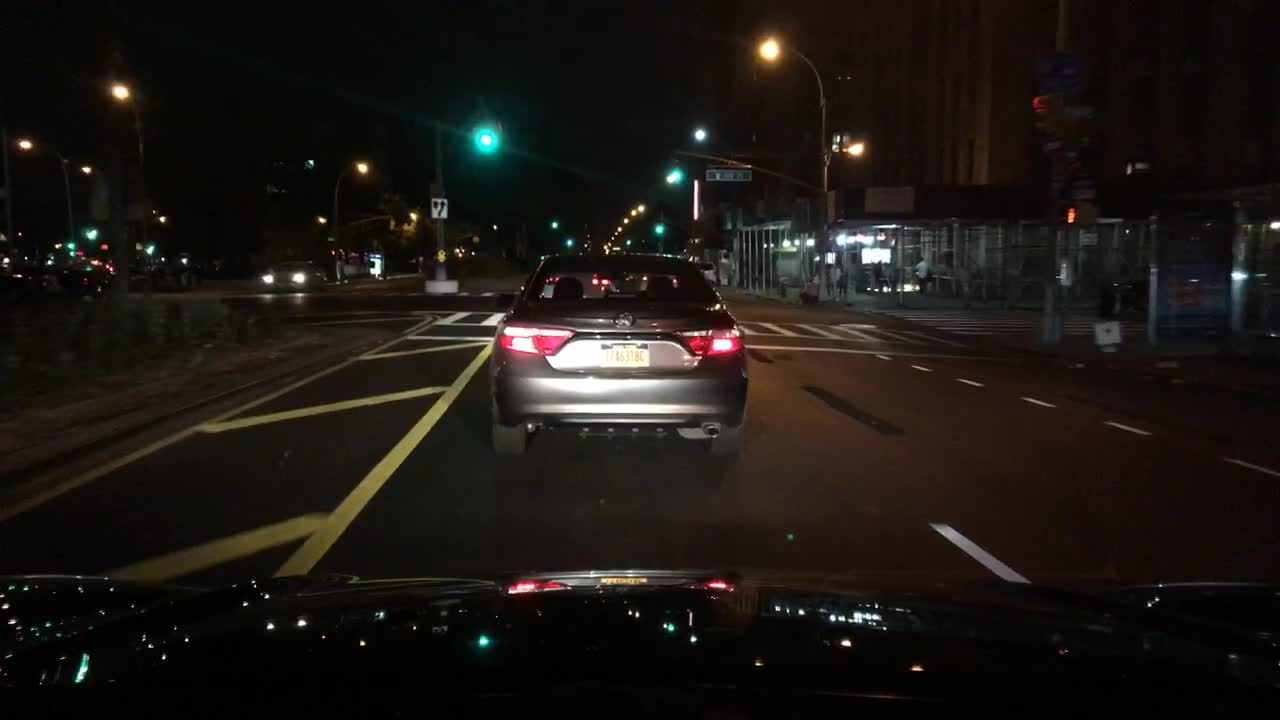car: (488, 250, 750, 464), (259, 258, 330, 294), (83, 256, 116, 287), (696, 256, 719, 289)
person: (913, 254, 928, 293), (874, 261, 888, 300), (837, 266, 849, 297), (836, 266, 844, 293)
traffic light: (1034, 96, 1061, 146), (472, 124, 502, 151), (669, 167, 688, 189), (1064, 205, 1079, 228), (83, 225, 98, 244), (143, 241, 156, 259), (66, 238, 76, 260), (548, 216, 560, 232), (653, 224, 666, 238), (564, 236, 577, 248)
traffic sign: (703, 165, 753, 181), (430, 197, 448, 220), (434, 248, 449, 263), (469, 233, 483, 246)
